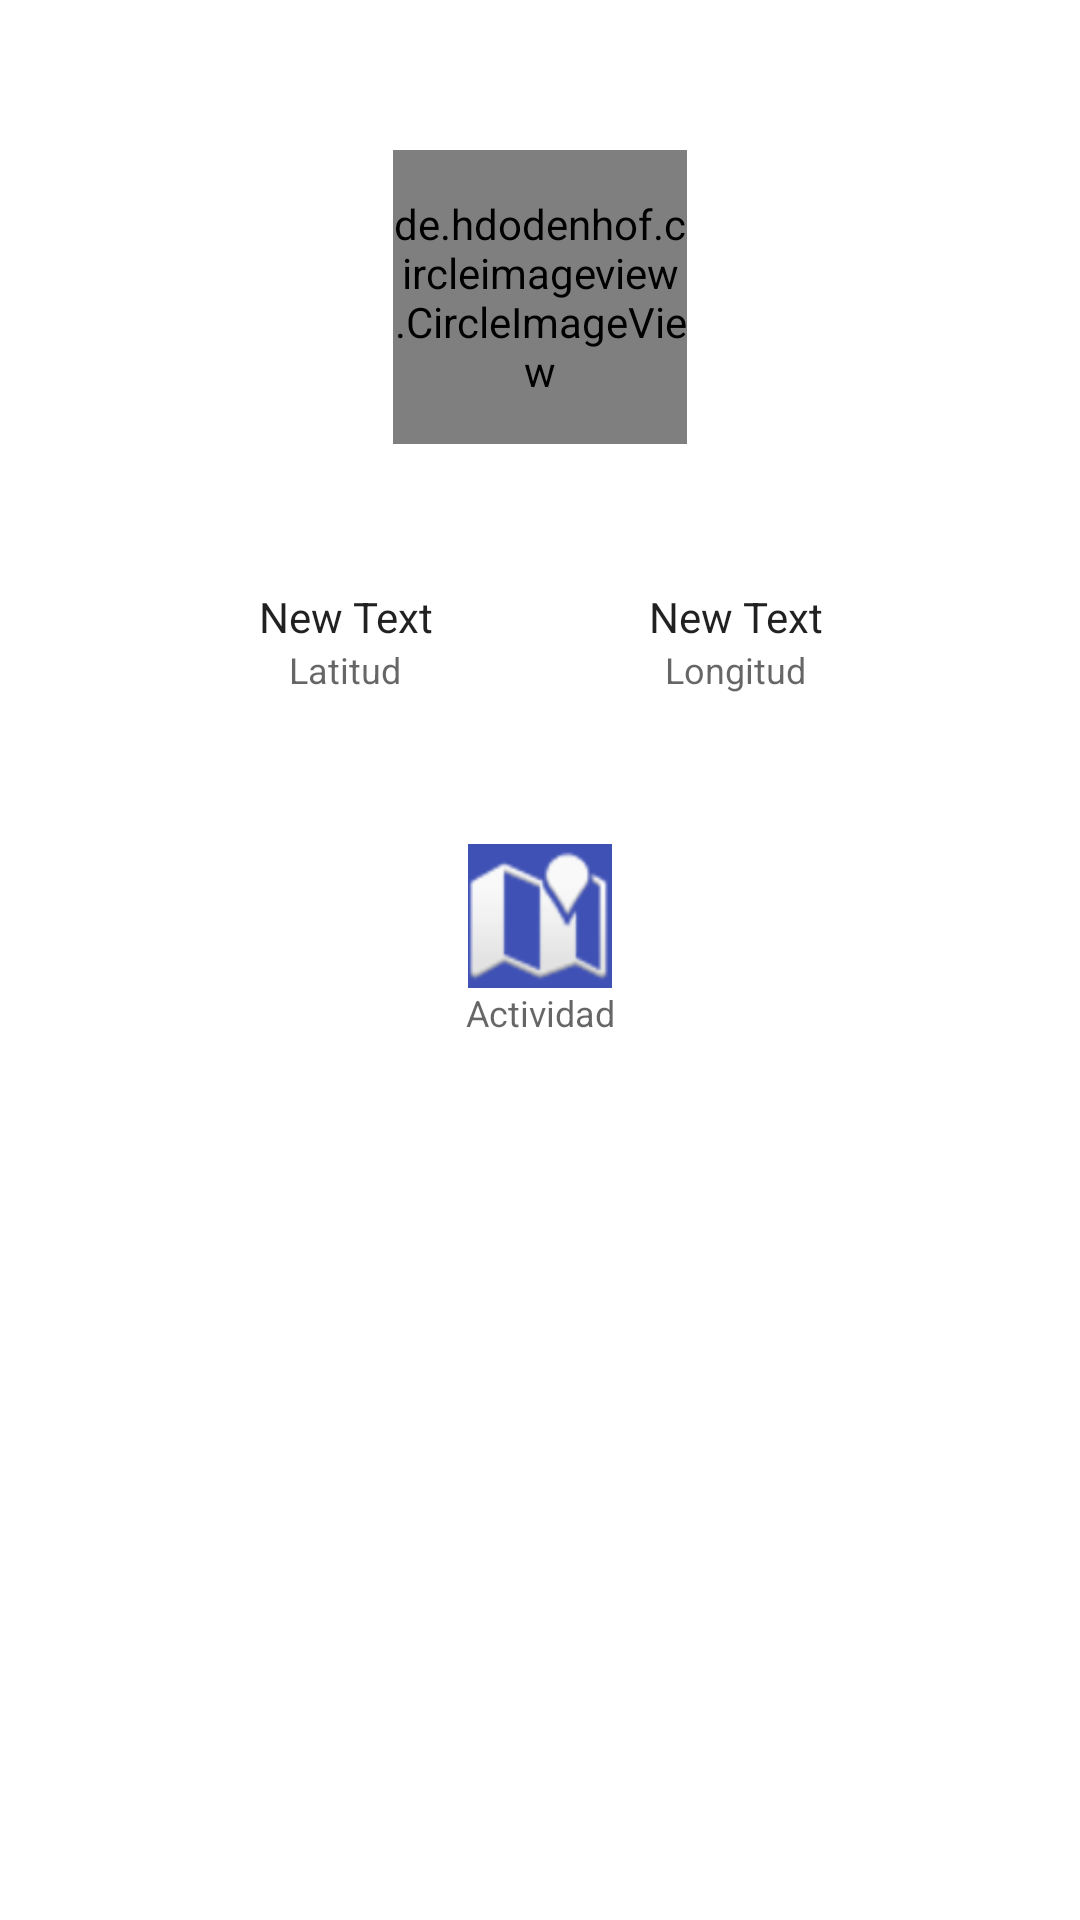

Named icons in this screenshot (1080×1920) and their bounding boxes, (x1, y1, x2, y2):
map: (468, 844, 612, 988)
